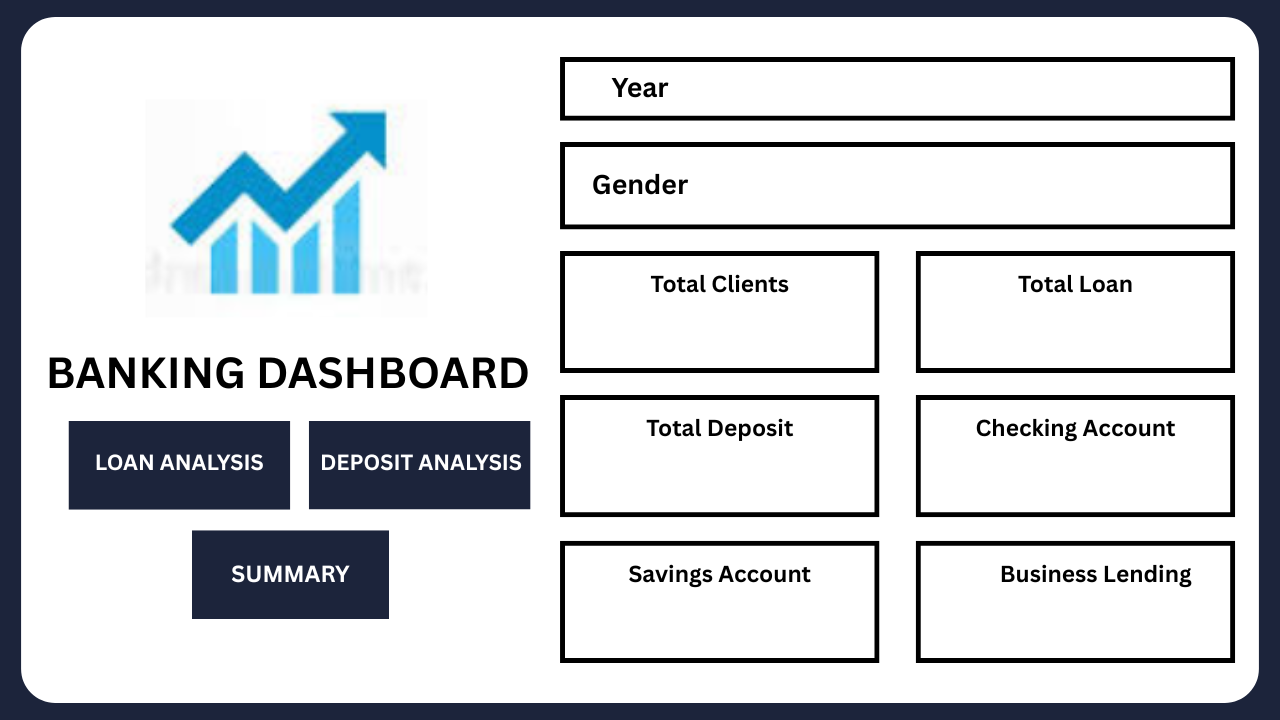

Layout of this report page (visuals, bound fields, positions):
{"tool":"powerbi","page":{"name":"Home","canvas":[1280,720],"ordinal":0},"visuals":[{"type":"card","fields":{"Values":["CountNonNull(banking_case customer.Name)"]},"box":[640,304,144,48],"z":0},{"type":"card","fields":{"Values":["banking_case customer.Total Loan"]},"box":[976,304,192,48],"z":1000},{"type":"card","fields":{"Values":["banking_case customer.Total Deposit"]},"box":[592,448,192,48],"z":2000},{"type":"card","fields":{"Values":["Sum(banking_case customer.Checking Accounts)"]},"box":[976,448,176,48],"z":3000},{"type":"card","fields":{"Values":["Sum(banking_case customer.Saving Accounts)"]},"box":[592,592,208,48],"z":4000},{"type":"card","fields":{"Values":["Sum(banking_case customer.Business Lending)"]},"box":[976,592,144,48],"z":5000},{"type":"slicer","fields":{"Values":["banking_case customer.GenderId"]},"box":[720,144,512,80],"z":6000},{"type":"slicer","fields":{"Values":["banking_case customer.Year of Joining"]},"box":[720,64,512,48],"z":7000},{"type":"actionButton","box":[64,416,224,96],"z":8000},{"type":"actionButton","box":[304,416,224,96],"z":9000},{"type":"actionButton","box":[192,528,199,96],"z":10000}]}

Visuals, with their boxes in screenshot pixels (x1, y1, x2, y2), scaled from the page's 1280x720 canvas onto the 1280x720 screenshot:
card - CountNonNull(banking_case customer.Name): BBox(640, 304, 784, 352)
card - banking_case customer.Total Loan: BBox(976, 304, 1168, 352)
card - banking_case customer.Total Deposit: BBox(592, 448, 784, 496)
card - Sum(banking_case customer.Checking Accounts): BBox(976, 448, 1152, 496)
card - Sum(banking_case customer.Saving Accounts): BBox(592, 592, 800, 640)
card - Sum(banking_case customer.Business Lending): BBox(976, 592, 1120, 640)
slicer - banking_case customer.GenderId: BBox(720, 144, 1232, 224)
slicer - banking_case customer.Year of Joining: BBox(720, 64, 1232, 112)
actionButton: BBox(64, 416, 288, 512)
actionButton: BBox(304, 416, 528, 512)
actionButton: BBox(192, 528, 391, 624)
